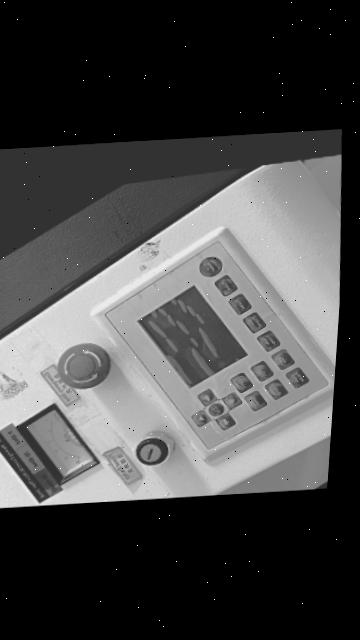Amp_Meter: (25, 410, 92, 477)
Display: (134, 286, 247, 387)
Down_button: (221, 392, 241, 409)
Emergency_Stop: (56, 342, 111, 389)
Enter_button: (243, 391, 266, 410)
Esc_button: (229, 372, 252, 392)
File_button: (270, 349, 293, 369)
Frame_button: (264, 379, 287, 399)
Left_button: (196, 389, 216, 406)
Max-Power_button: (256, 331, 279, 351)
Min-Power_button: (242, 312, 265, 332)
Origin_button: (249, 361, 272, 381)
Power_switch: (134, 431, 174, 465)
Pulse_button: (213, 275, 236, 296), (213, 275, 236, 296)
Reset_button: (198, 256, 221, 276)
Right_button: (214, 413, 234, 430)
Speed_button: (227, 293, 250, 314)
Start-Pause_button: (285, 367, 308, 388), (285, 367, 308, 388)
Up_button: (190, 410, 209, 427)
Z_U_button: (207, 403, 223, 416)
